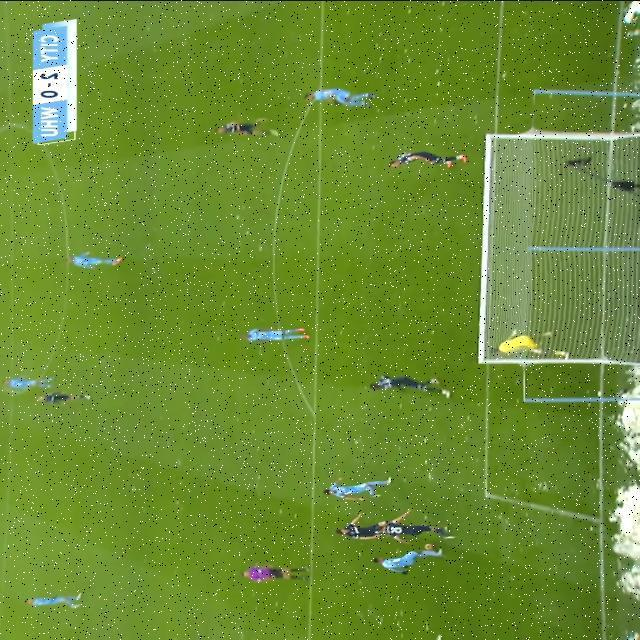ball: (421, 541, 443, 552)
goalkeeper: (483, 317, 575, 371)
player: (364, 367, 458, 405), (377, 144, 487, 176), (366, 512, 468, 542), (296, 79, 388, 111), (235, 319, 333, 349), (321, 473, 407, 501), (31, 383, 108, 414), (20, 585, 94, 615), (329, 516, 407, 542), (374, 550, 446, 576), (206, 117, 298, 137), (65, 250, 136, 270), (6, 370, 66, 392)
referee: (236, 561, 313, 583)
